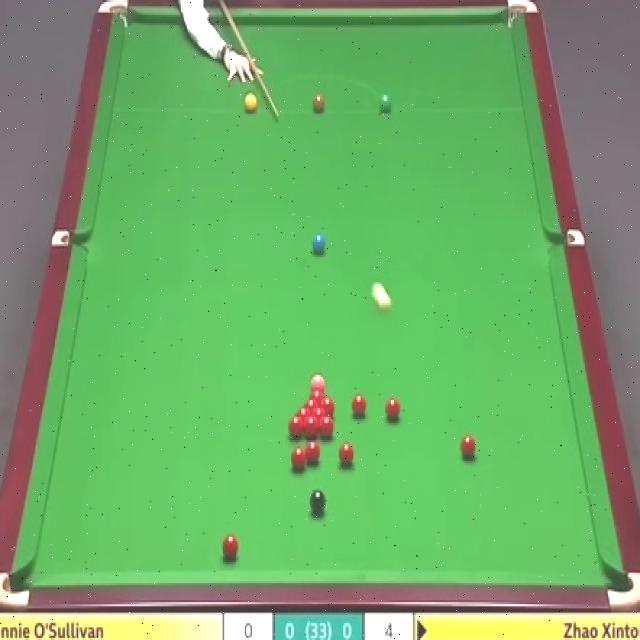black-ball: (310, 490, 326, 517)
blue-ball: (312, 233, 326, 253)
brown-ball: (312, 95, 326, 112)
green-ball: (381, 92, 394, 112)
pink-ball: (310, 373, 326, 391)
red-ball: (222, 533, 239, 561), (350, 393, 368, 419), (286, 414, 303, 440), (318, 395, 336, 419), (318, 416, 336, 439), (338, 442, 354, 467), (302, 413, 318, 438), (384, 396, 402, 418), (460, 433, 475, 459), (305, 440, 321, 464), (291, 446, 306, 471), (309, 390, 326, 402), (298, 406, 312, 420)
white-ball: (378, 286, 392, 312)
yellow-ball: (242, 91, 260, 114)
